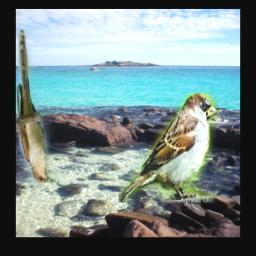Cuckoo: (16, 29, 55, 183)
Sparrow: (118, 94, 218, 203)
